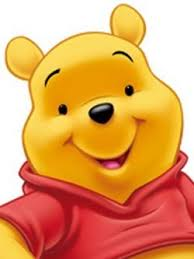Winnie: (5, 2, 192, 223)
